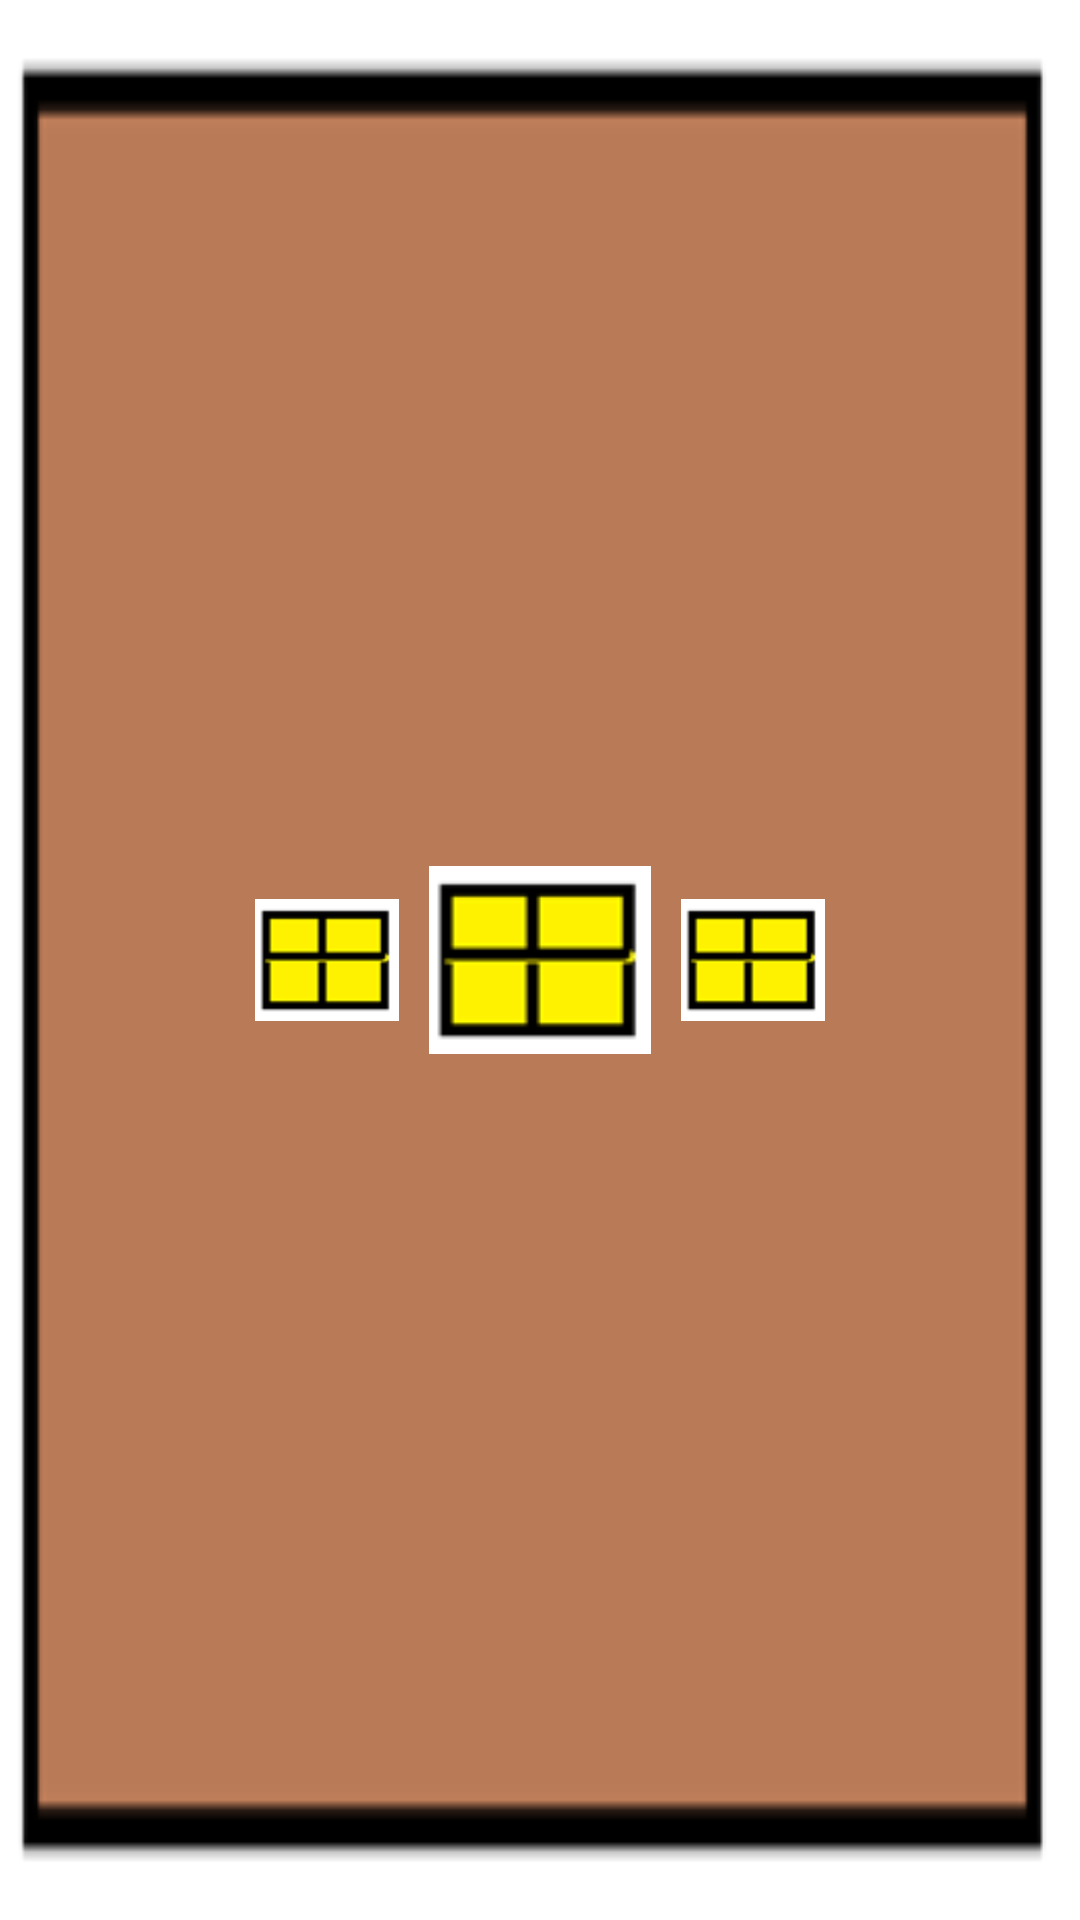

Screen size 1080px×1920px. Icon name, then its box in pixels as (x1,y1,x2,y2):
window: (429,866,651,1054), (255,899,399,1021), (681,899,825,1021)
